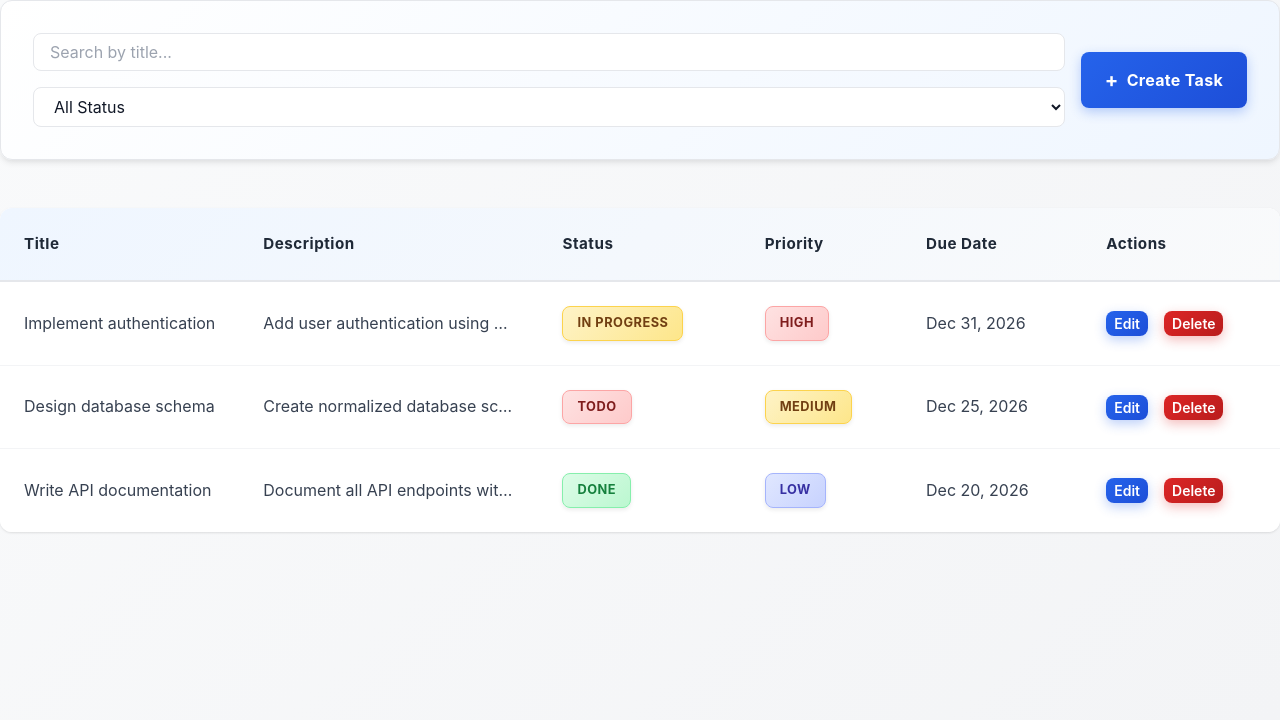
Test case: TaskList Integration Tests › Create Task › should open modal when create button is clicked
Expected: the text "Implement authentication" is shown, [0,281,239,365]
Click the button "+ Create Task" at (1164, 80), box [1081,52,1247,108]
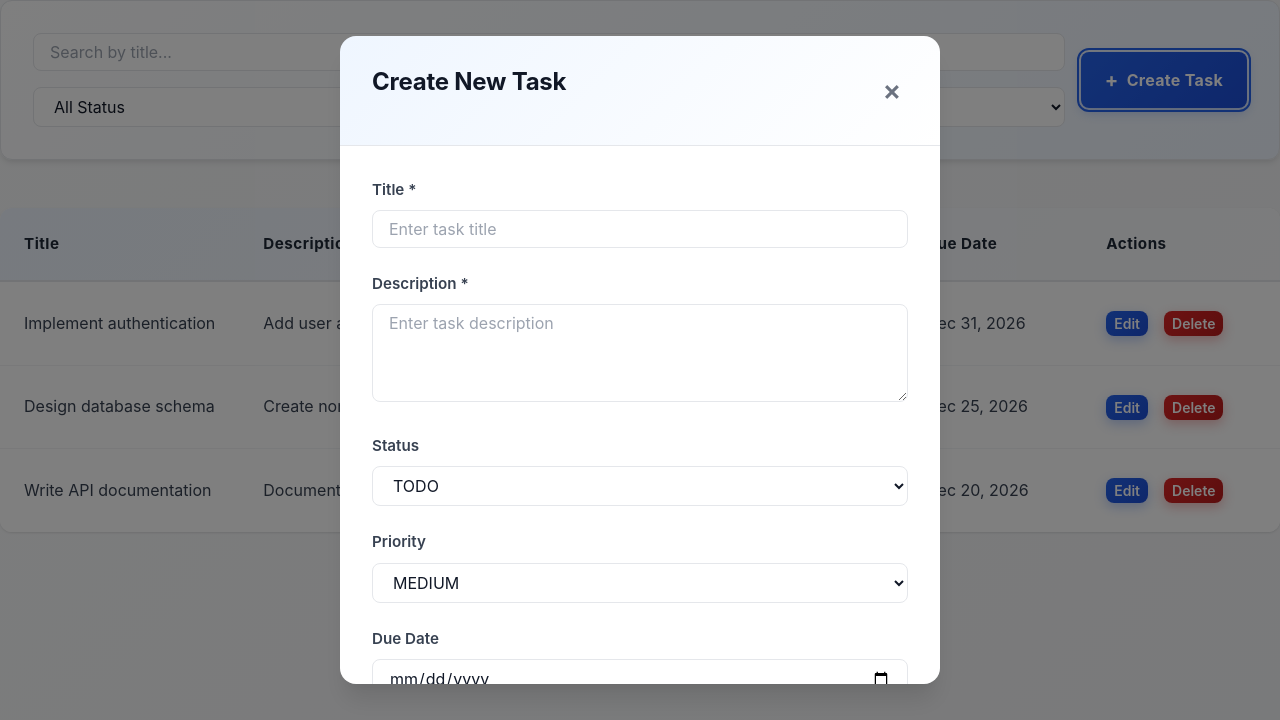
Result: the heading "Create New Task" is shown at [372,68,566,97]
